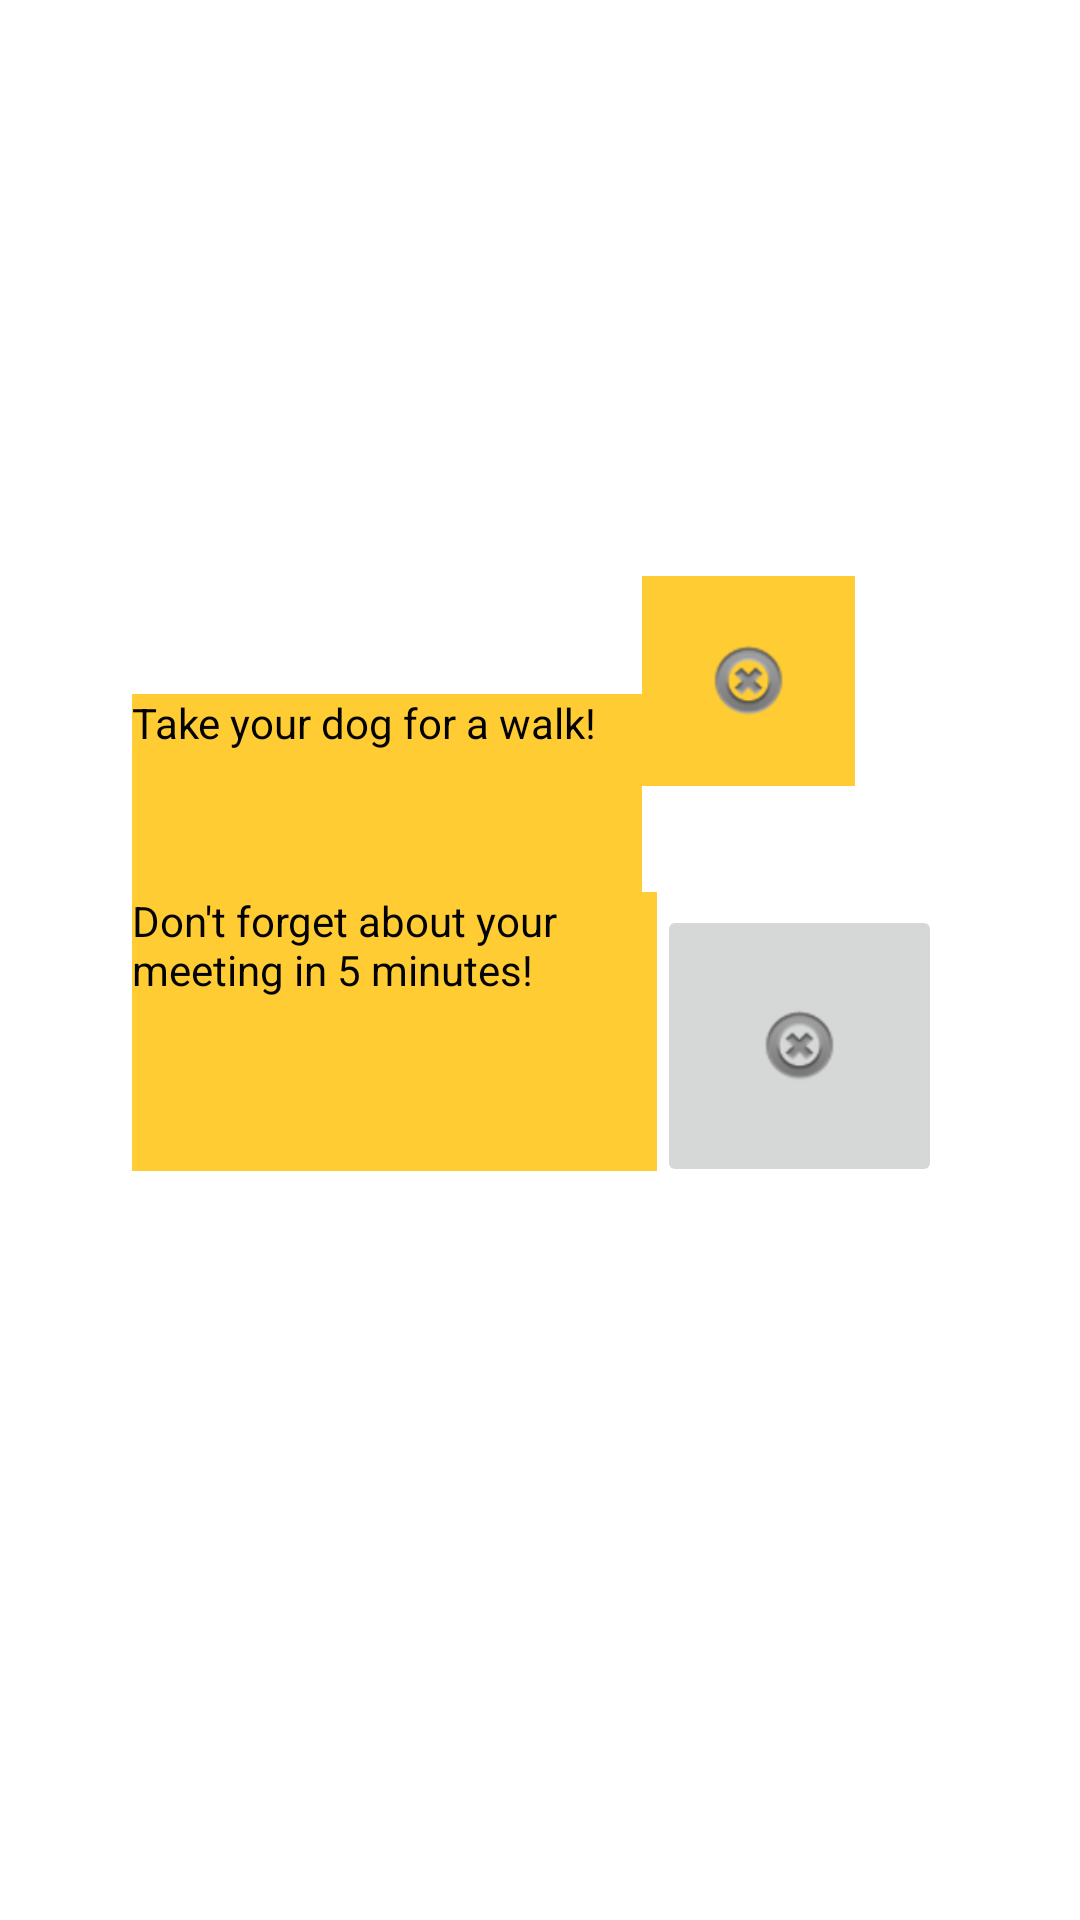

Screen size 1080 × 1920. Icon name, then its center in pixels as (x=x, y=y):
Delete notification: (x=748, y=681), (x=799, y=1046)
